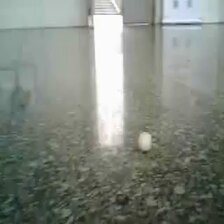w: (137, 131, 155, 153)
